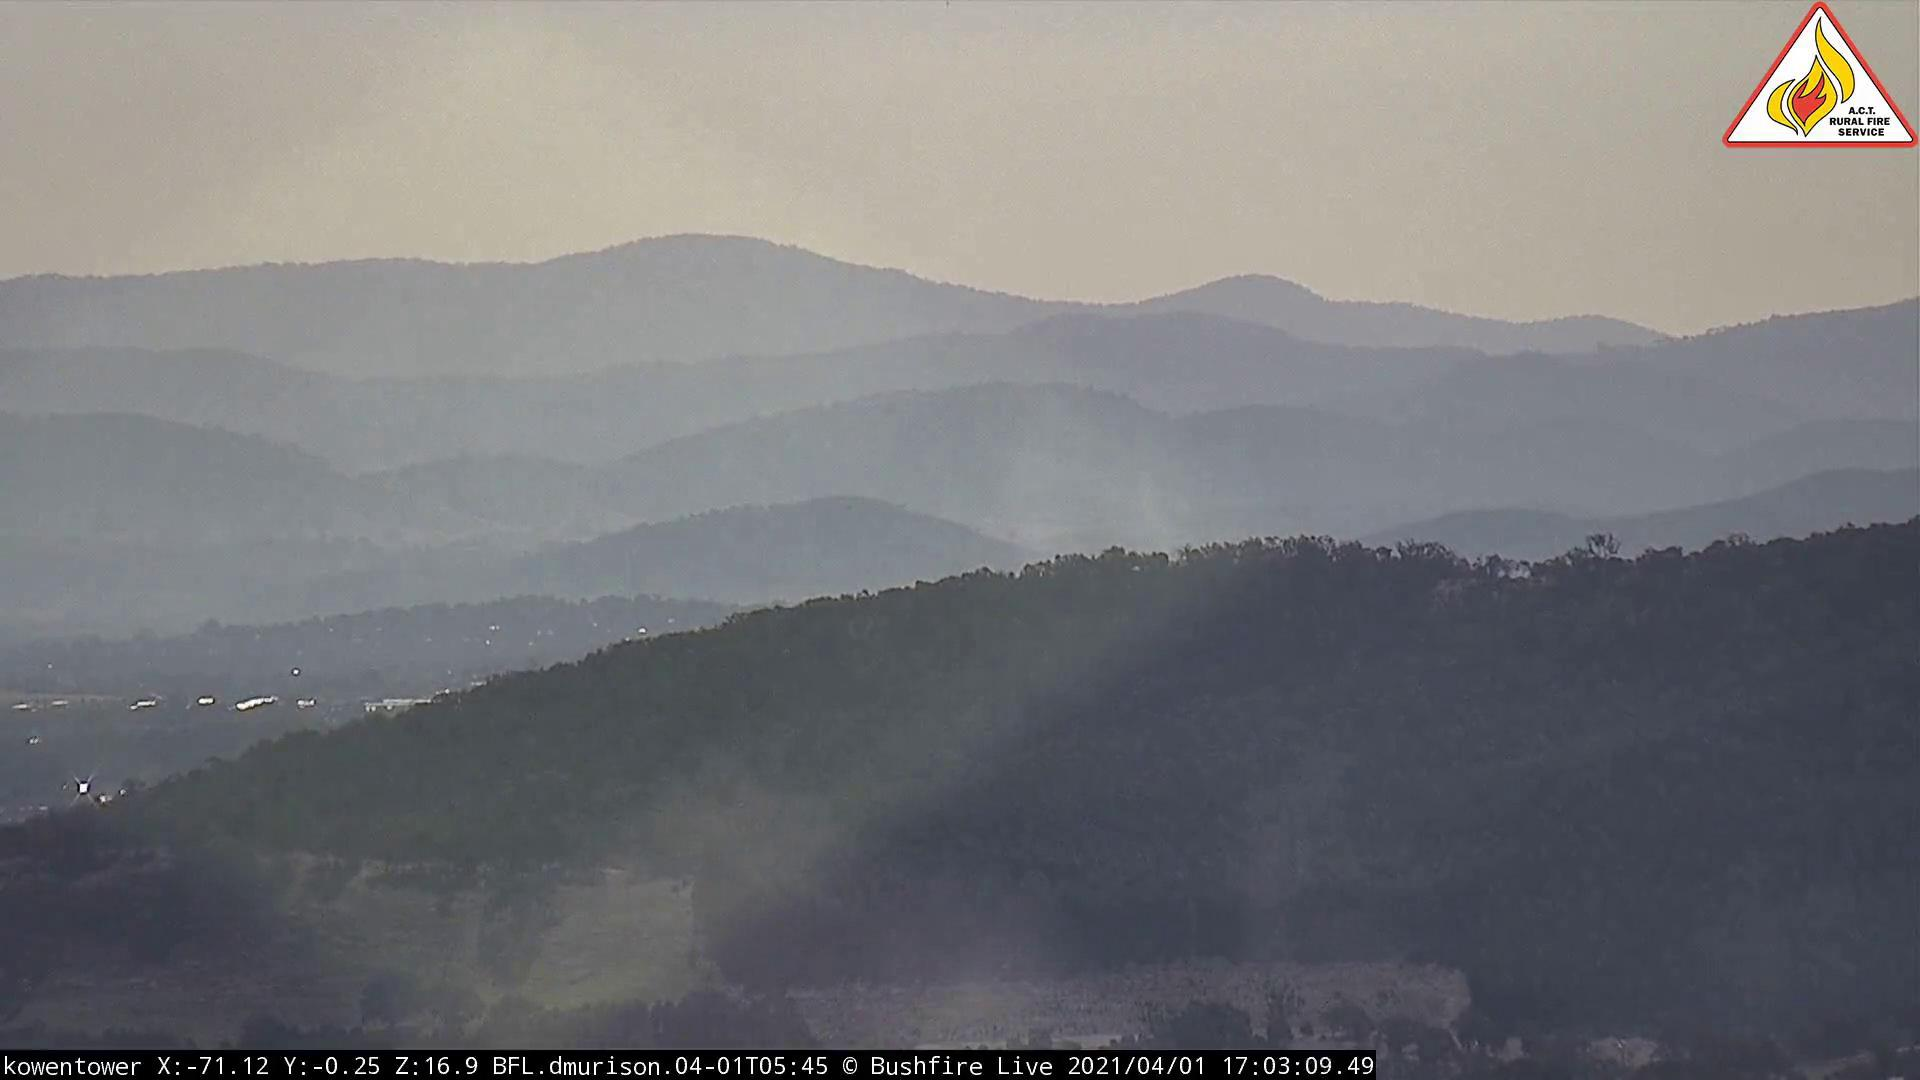instance_salient_object: (989, 401, 1258, 587)
